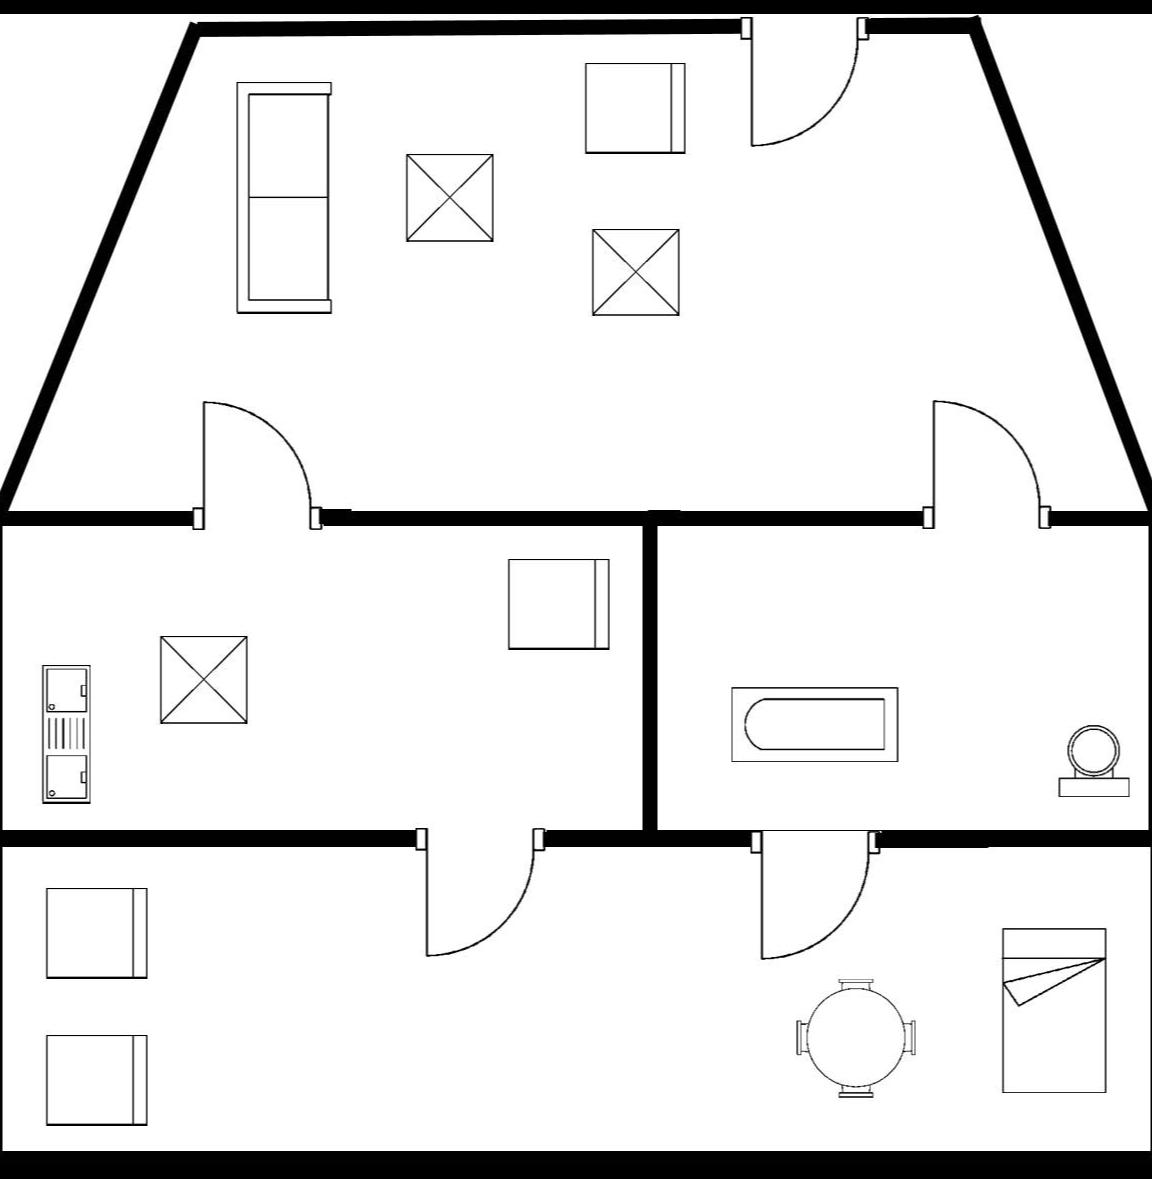sink: (33, 659, 98, 813)
